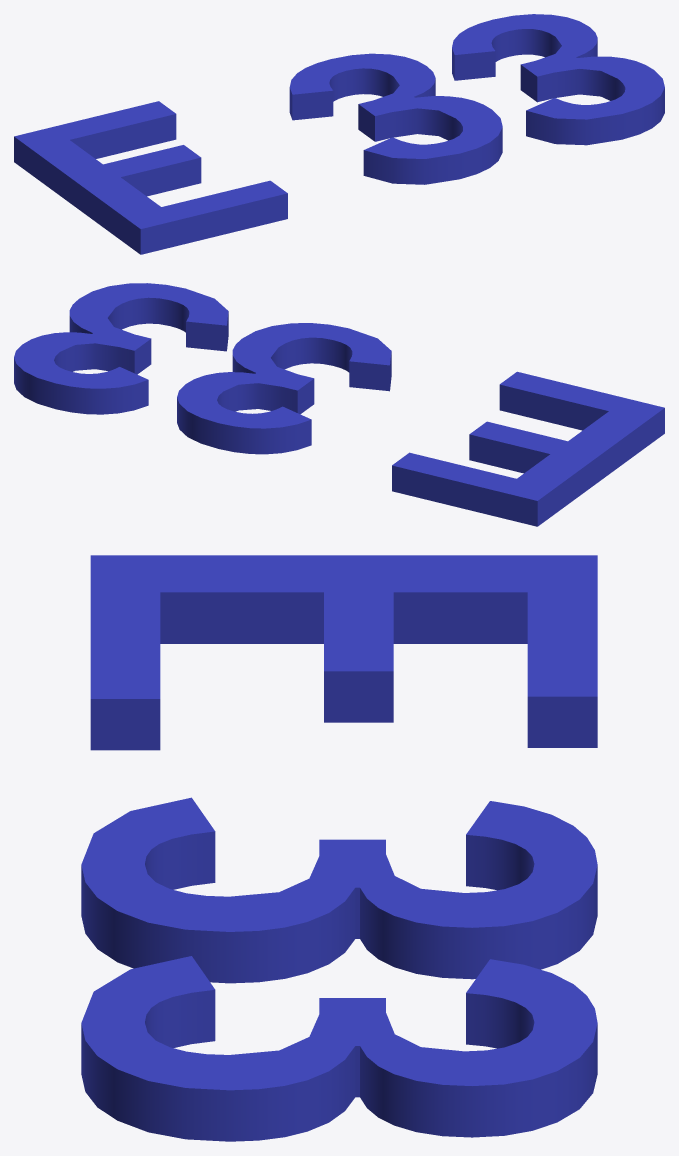
3 views of the same model, one above another, from view 1: azimuth 30°, elevation 25°; view 2: azimuth 150°, elevation 25°; view 3: azimuth 270°, elevation 25° (orthographic). The views are drawn at different scales.
Parts seen in each view (by area): view 1: node_id253; view 2: node_id253; view 3: node_id253.
Boxes of the visible parts, x1=… form: node_id253: x1=14, y1=14, x2=664, y2=254; node_id253: x1=14, y1=283, x2=664, y2=526; node_id253: x1=81, y1=555, x2=597, y2=1141.
Bounding box in the file's own units: 0.4187 × 0.0188 × 0.1707.
